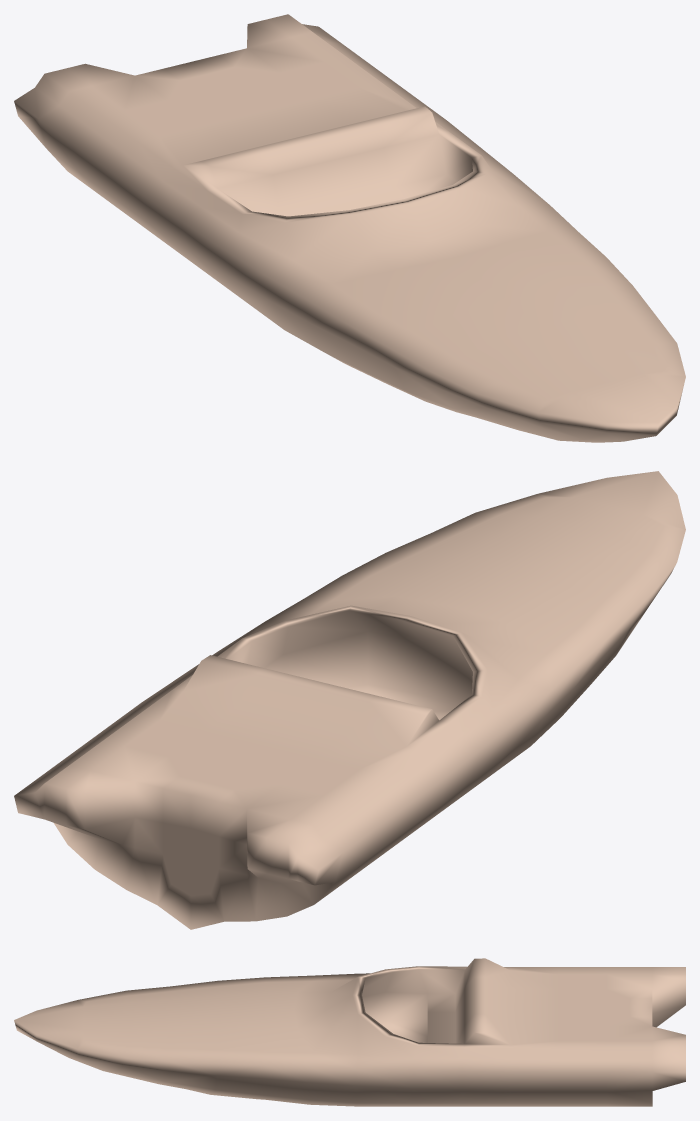
The model's file is Boat Model.fbx.
The picture shows the model from 3 angles, top to bottom: view 1: azimuth 30°, elevation 25°; view 2: azimuth 150°, elevation 25°; view 3: azimuth 270°, elevation 25°; orthographic projection. The views are drawn at different scales.
Parts seen in each view (by area): view 1: SportsBoat:boat; view 2: SportsBoat:boat; view 3: SportsBoat:boat.
Part boxes in pixels (bbox=[...]): SportsBoat:boat: bbox=[14, 14, 685, 442]; SportsBoat:boat: bbox=[14, 471, 685, 929]; SportsBoat:boat: bbox=[14, 958, 685, 1106].
Bounding box in the file's own units: 182 × 87.48 × 510.
